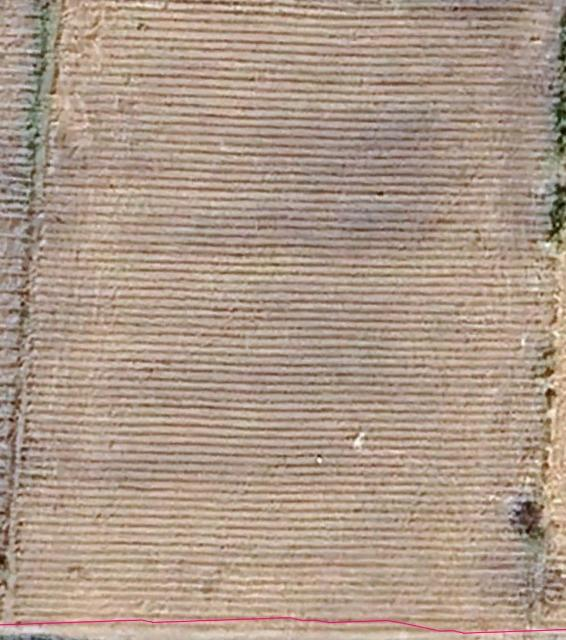Farms: (6, 7, 563, 630)
